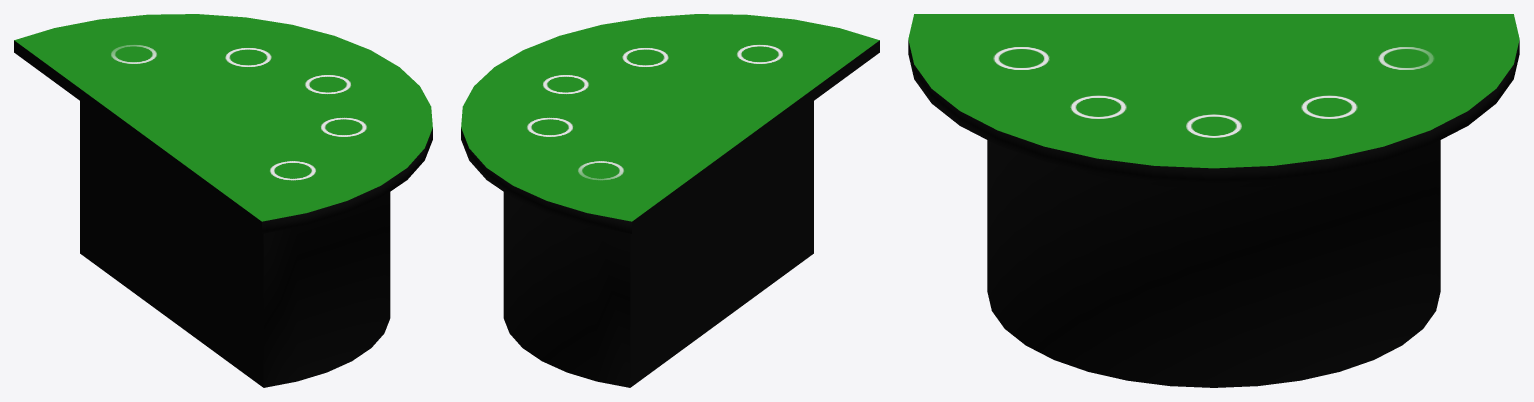
Rendered from tablewithtexture.glb.
3 views of the same model, side by side, from view 1: azimuth 30°, elevation 25°; view 2: azimuth 150°, elevation 25°; view 3: azimuth 270°, elevation 25° (orthographic). The views are drawn at different scales.
Parts seen in each view (by area): view 1: table; view 2: table; view 3: table.
Part boxes in pixels (<box>): table: <box>14,14,432,387</box>; table: <box>461,14,879,387</box>; table: <box>908,14,1519,387</box>.
Bounding box in the file's own units: 1.21 × 0.8761 × 2.03.
2 materials, 1 textured.
